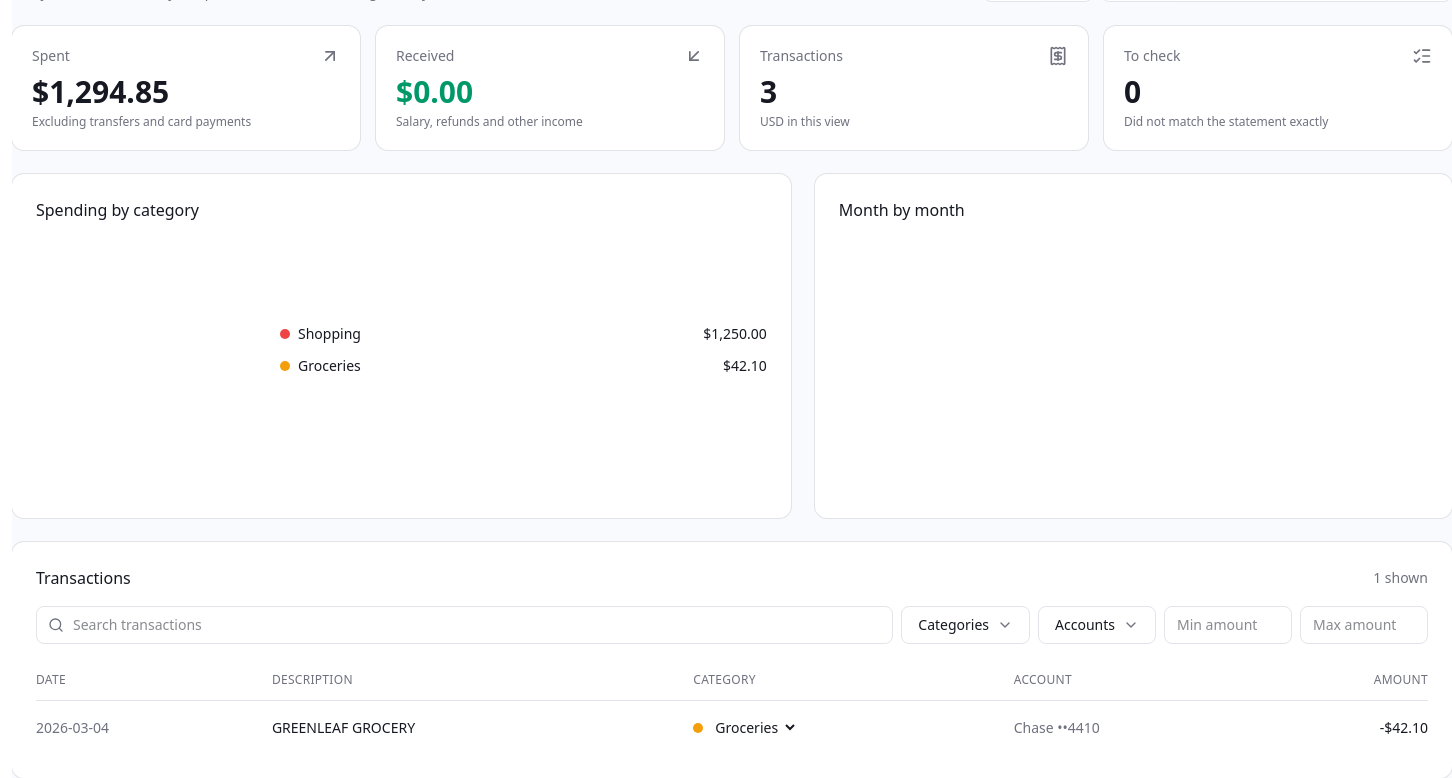
changing a category offers a rule for the merchant
The width and height of the screenshot is (1452, 778).
(page scrolled)
Select "Dining" in the dropdown named "Category for GREENLEAF GROCERY" at coordinates (755, 728), box [711,713,798,742]
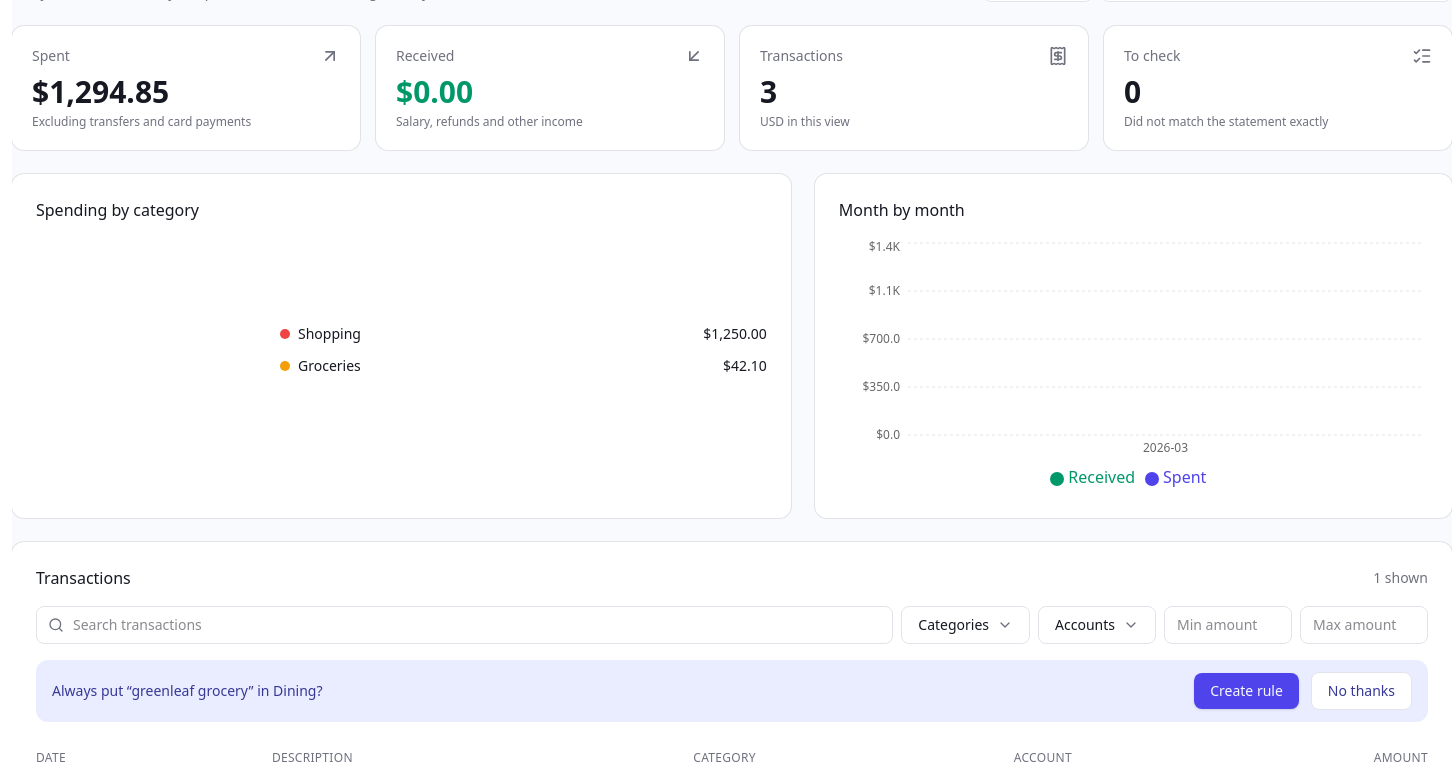
Click the button "Create rule".
click(1246, 691)  # box [1194,673,1299,709]
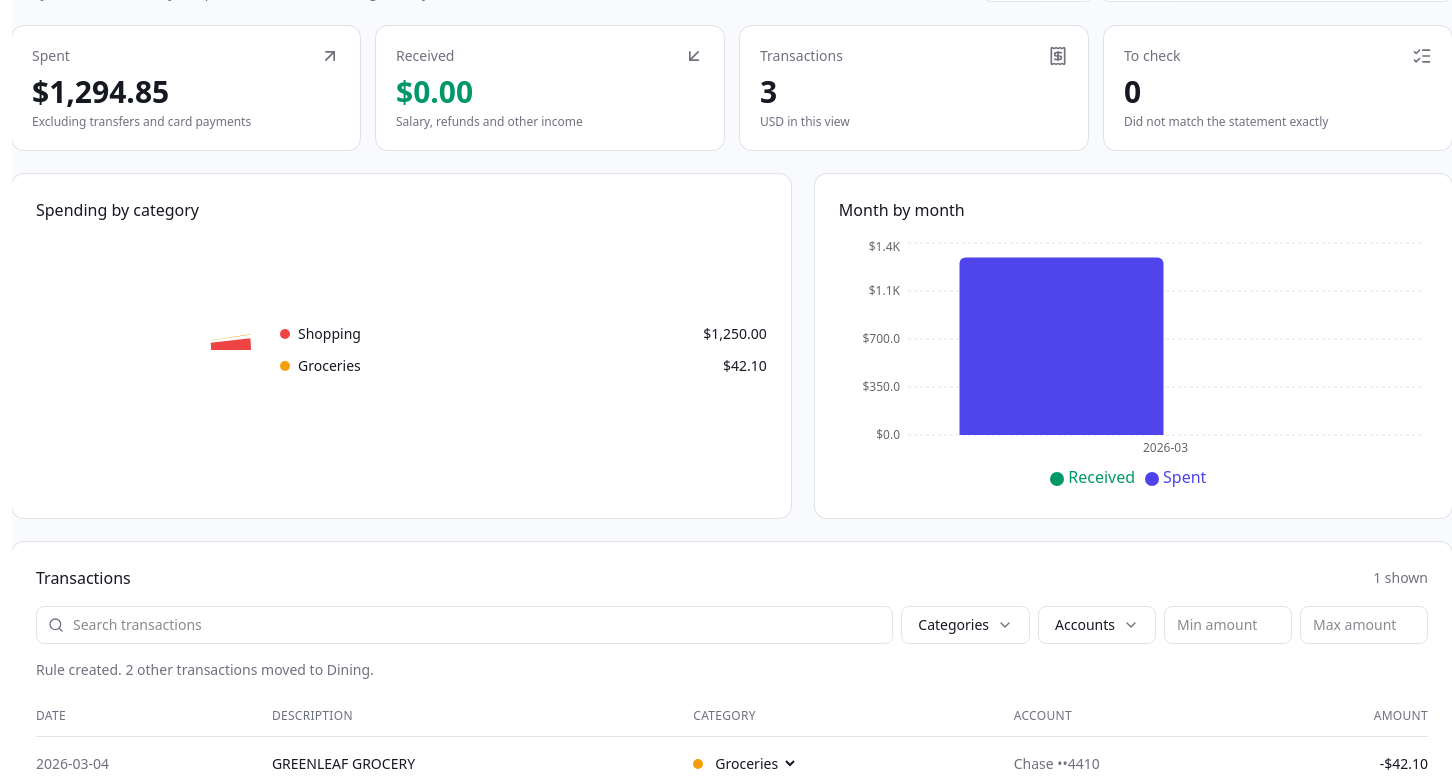
expect the text "Rule created. 2 other transactions moved to Dining." is shown: met, box [36,660,374,679]
